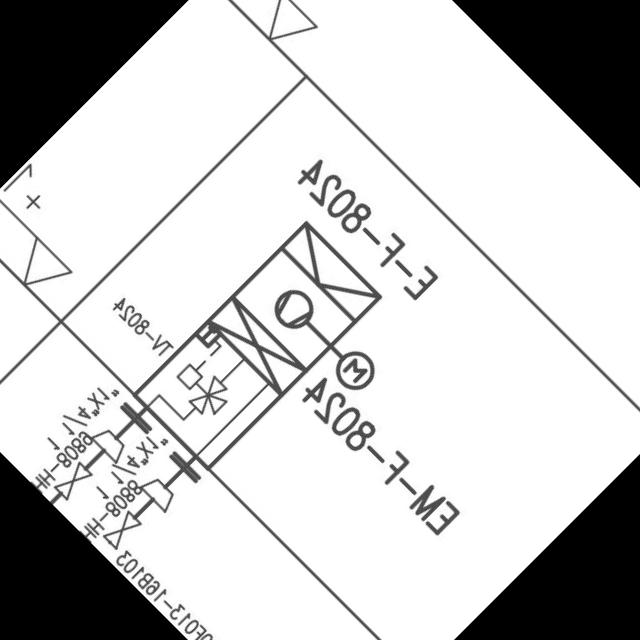3W: (186, 374, 235, 423)
GV: (50, 456, 100, 506), (98, 505, 147, 554)
M: (322, 340, 382, 400)
P: (264, 278, 324, 338)
SP: (134, 469, 184, 518), (86, 421, 134, 469)
